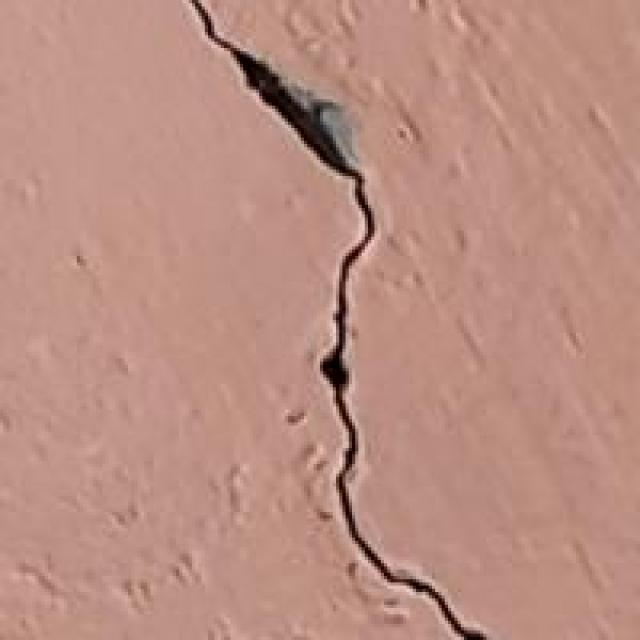crack: (172, 0, 510, 640)
